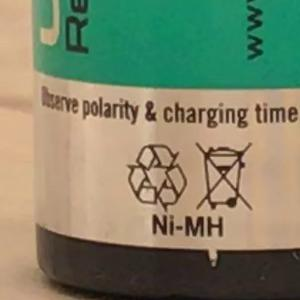NI-MH: (142, 206, 233, 246)
